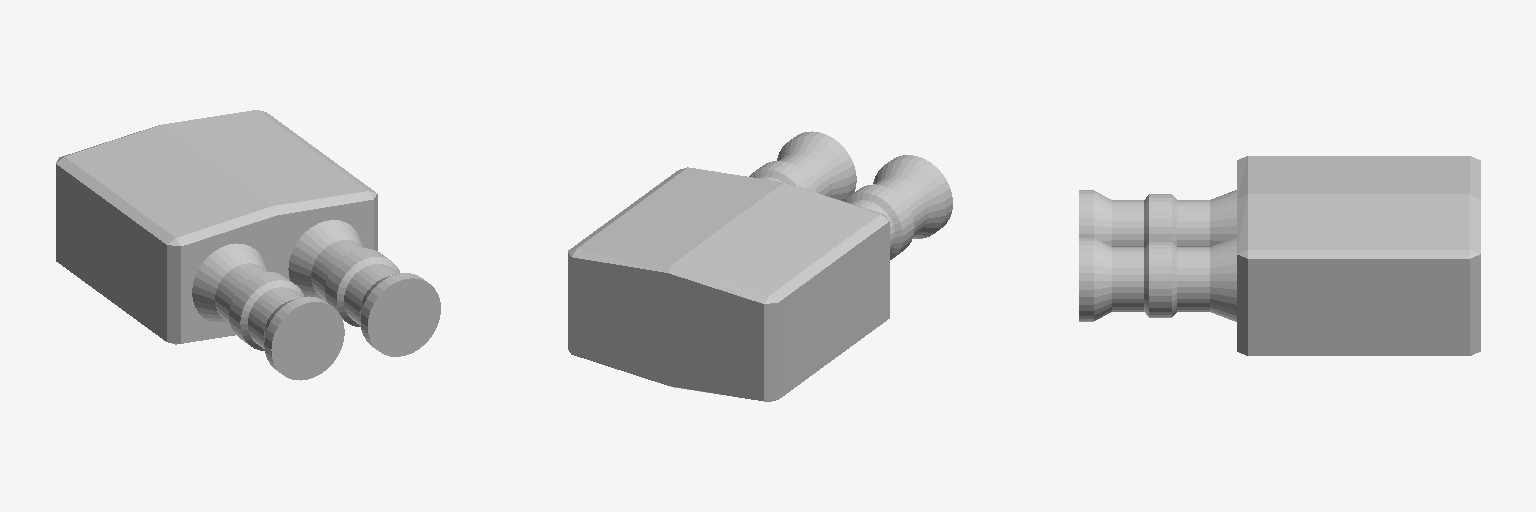
Rendered from doublegun.obj.
3 views of the same model, side by side, from view 1: azimuth 30°, elevation 25°; view 2: azimuth 150°, elevation 25°; view 3: azimuth 270°, elevation 25° (orthographic).
Visible parts, largest first — view 1: Cube.009_Cube.009; view 2: Cube.009_Cube.009; view 3: Cube.009_Cube.009.
Part boxes in pixels (x1,y1,x2,y2): Cube.009_Cube.009: (56,110,440,380); Cube.009_Cube.009: (568,131,952,401); Cube.009_Cube.009: (1079,156,1480,355).
Size of the model in its own units: 200 by 112 by 329.